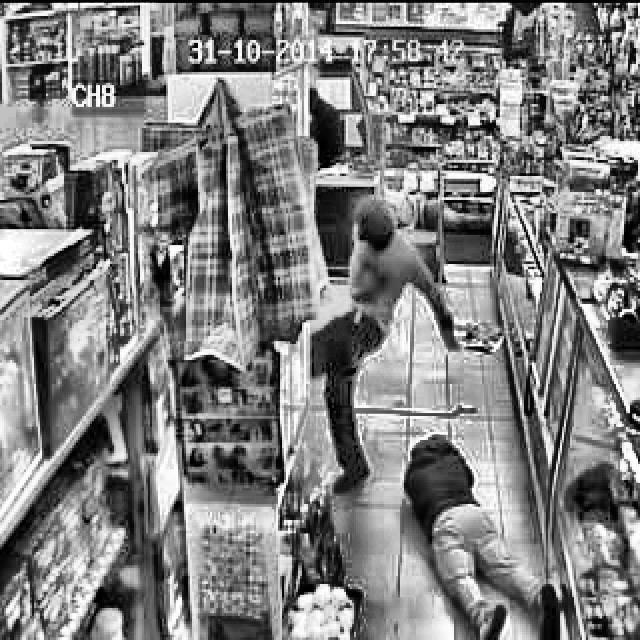robbery: (310, 200, 463, 500), (393, 430, 565, 639)
